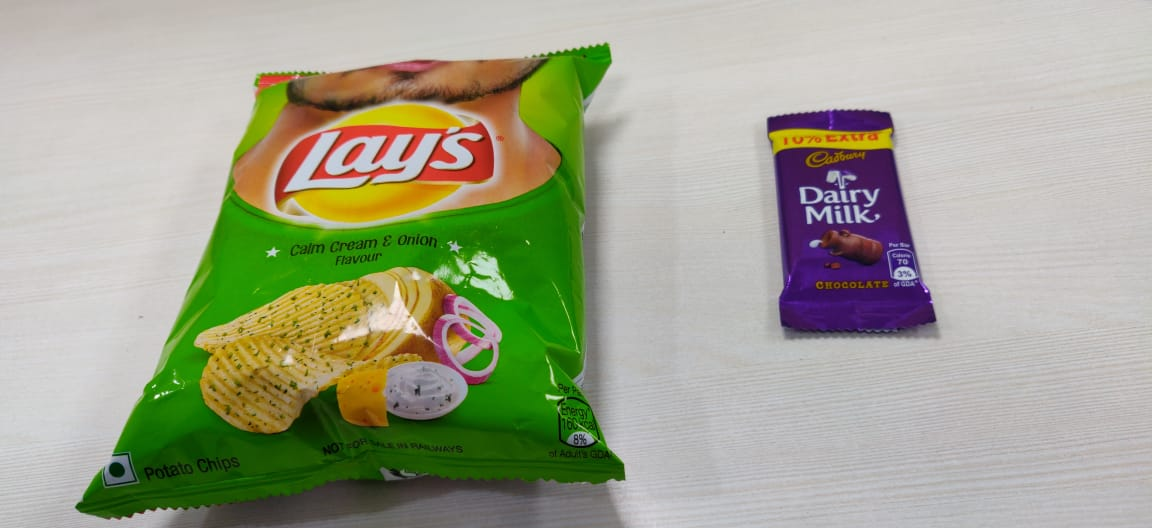dairy milk: (760, 105, 935, 338)
lays chips: (84, 34, 633, 528)
